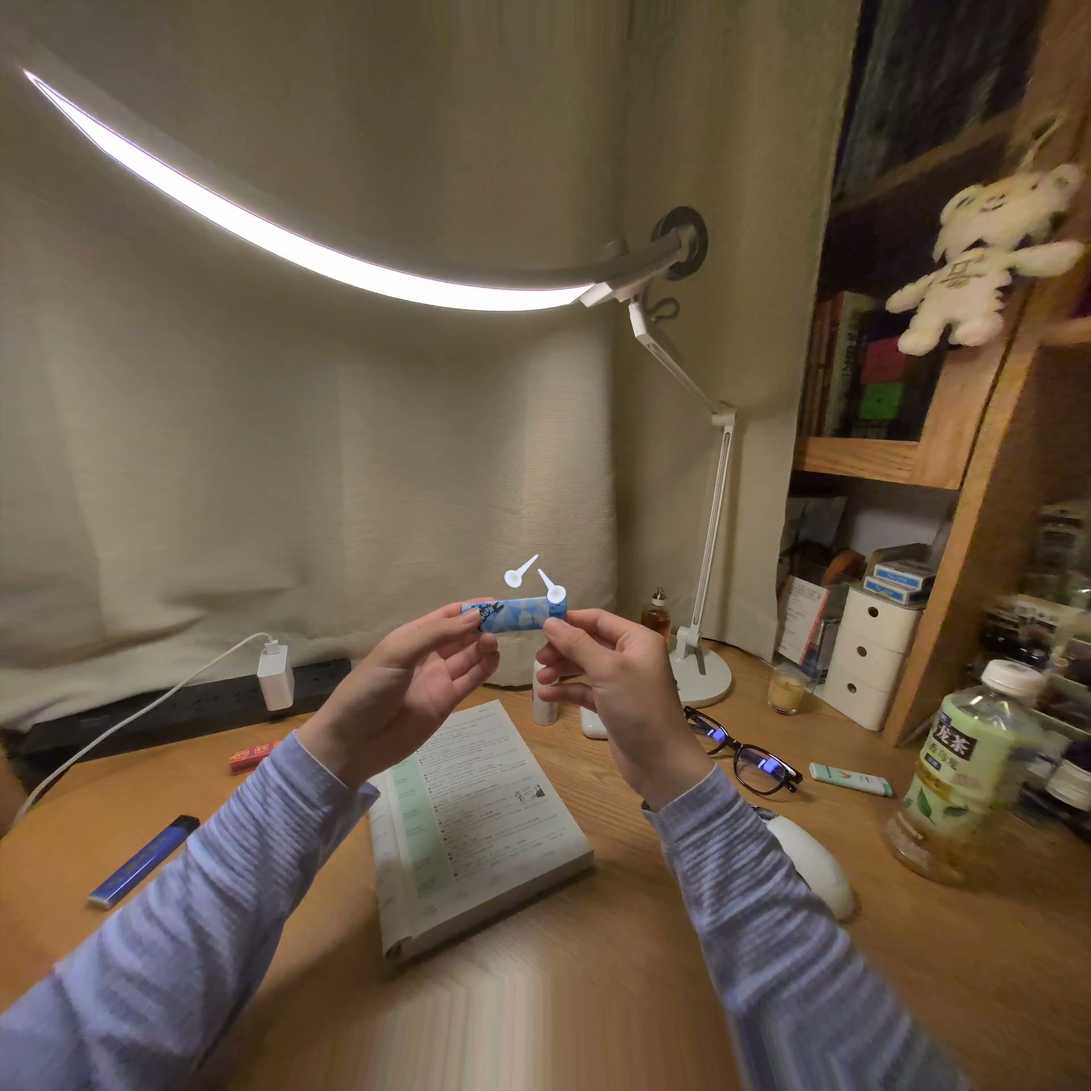lighter: (461, 589, 567, 634)
